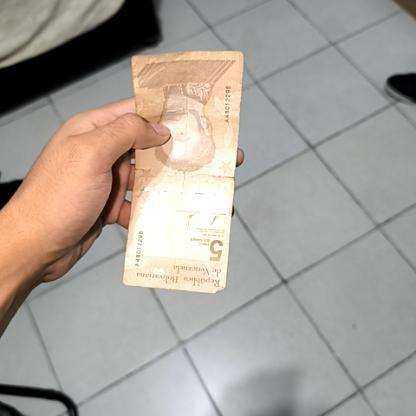five-front-vef: (125, 50, 243, 294)
